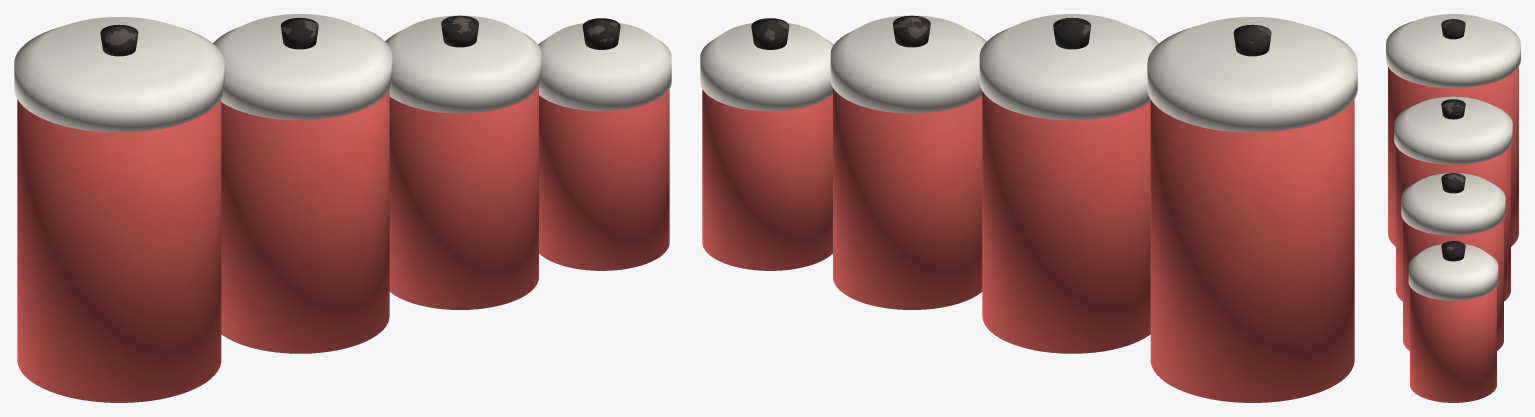
The model's file is np_canisters_1k.fbx.
3 renders of one model, left to right at view 1: azimuth 30°, elevation 25°; view 2: azimuth 150°, elevation 25°; view 3: azimuth 270°, elevation 25°, orthographic. The views are drawn at different scales.
Parts seen in each view (by area): view 1: np_canisters; view 2: np_canisters; view 3: np_canisters.
Boxes of the visible parts, x1,y1,x2,y2 form: np_canisters: [14, 14, 671, 402]; np_canisters: [700, 14, 1357, 402]; np_canisters: [1386, 14, 1520, 402].
Bounding box in the file's own units: 0.5377 × 0.27 × 0.1545.
Materials: 1 (1 with a texture image).
